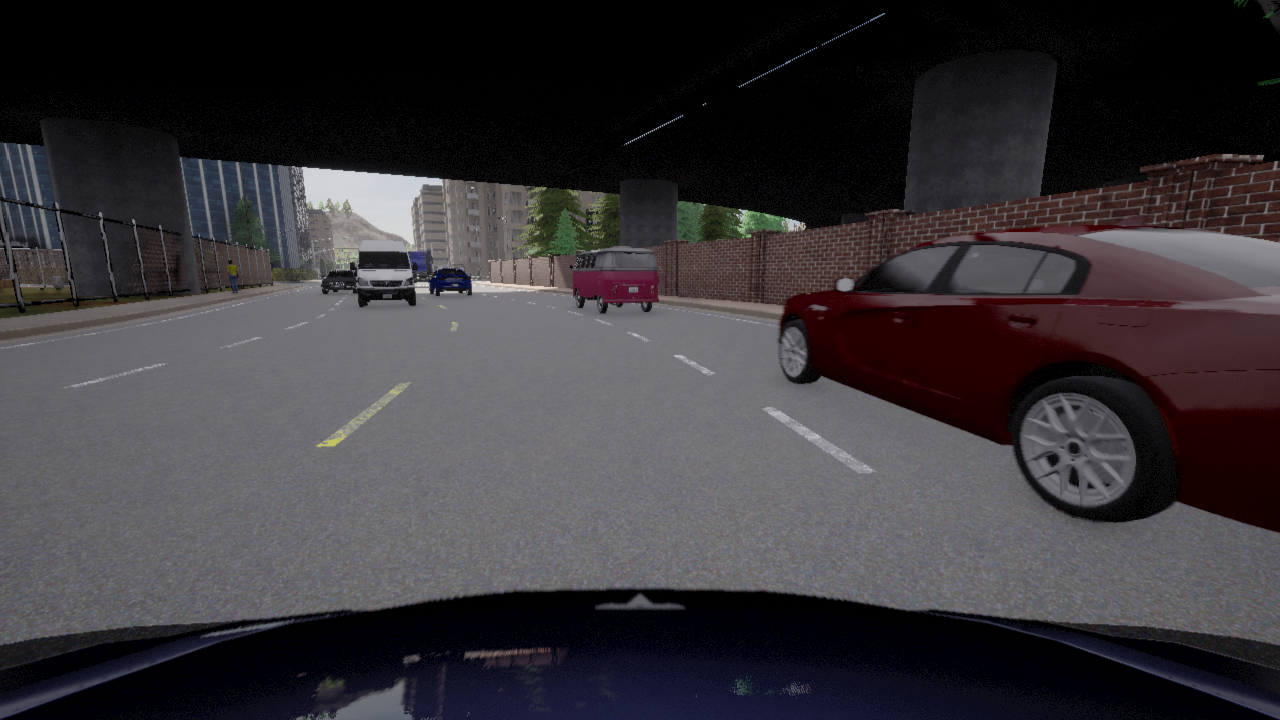cyclist: (0, 588, 1279, 719), (778, 215, 1279, 532), (570, 248, 658, 313), (350, 240, 417, 306), (428, 268, 471, 295), (321, 269, 356, 293), (408, 250, 433, 283)
pedestrian: (226, 260, 238, 293)
